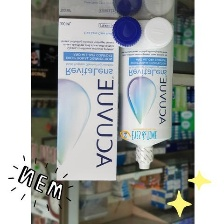book: (52, 11, 122, 183)
cleaning_solution: (117, 15, 176, 170)
